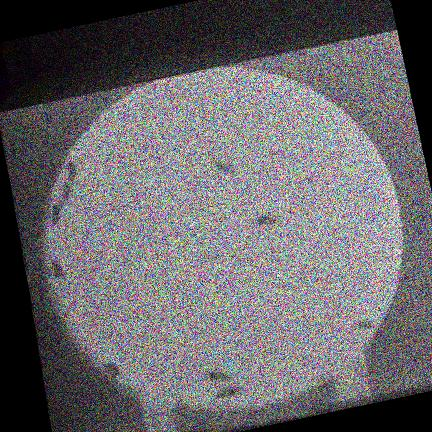fly: (215, 385, 242, 398), (204, 370, 232, 382), (57, 181, 71, 204), (101, 362, 122, 377), (49, 260, 64, 280), (253, 214, 279, 225), (65, 160, 77, 183), (215, 159, 234, 173), (49, 203, 60, 224), (358, 319, 370, 329)
